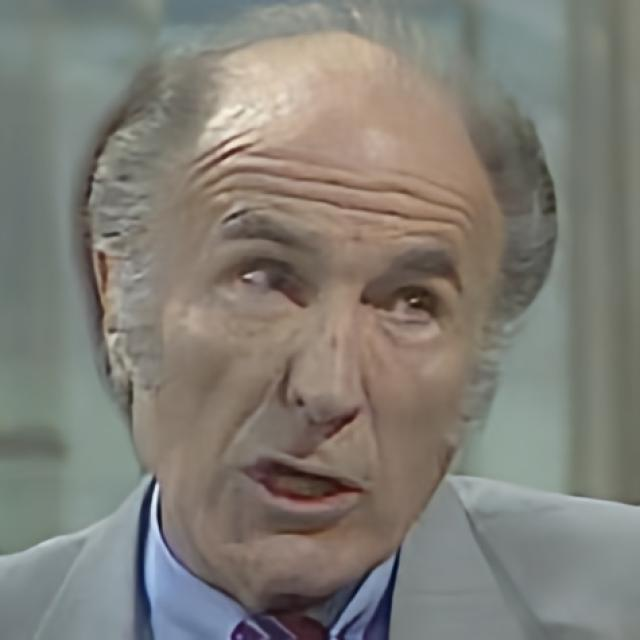surprise: (150, 95, 478, 584)
